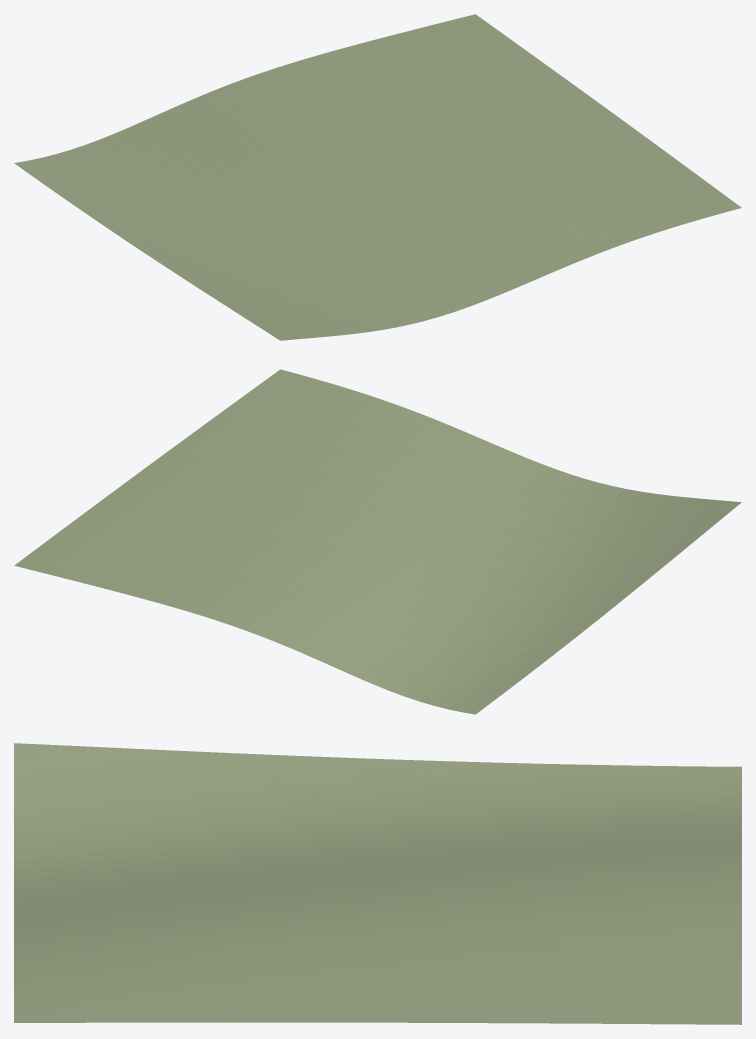
File: desert-11-15.glb
3 views of the same model, one above another, from view 1: azimuth 30°, elevation 25°; view 2: azimuth 150°, elevation 25°; view 3: azimuth 270°, elevation 25° (orthographic). The views are drawn at different scales.
Visible parts, largest first — view 1: desert-11-15; view 2: desert-11-15; view 3: desert-11-15.
Part boxes in pixels (x1,y1,x2,y2): desert-11-15: (14, 14, 741, 340); desert-11-15: (14, 369, 741, 714); desert-11-15: (14, 743, 741, 1024).
Size of the model in its own units: 512 by 41.81 by 512.
